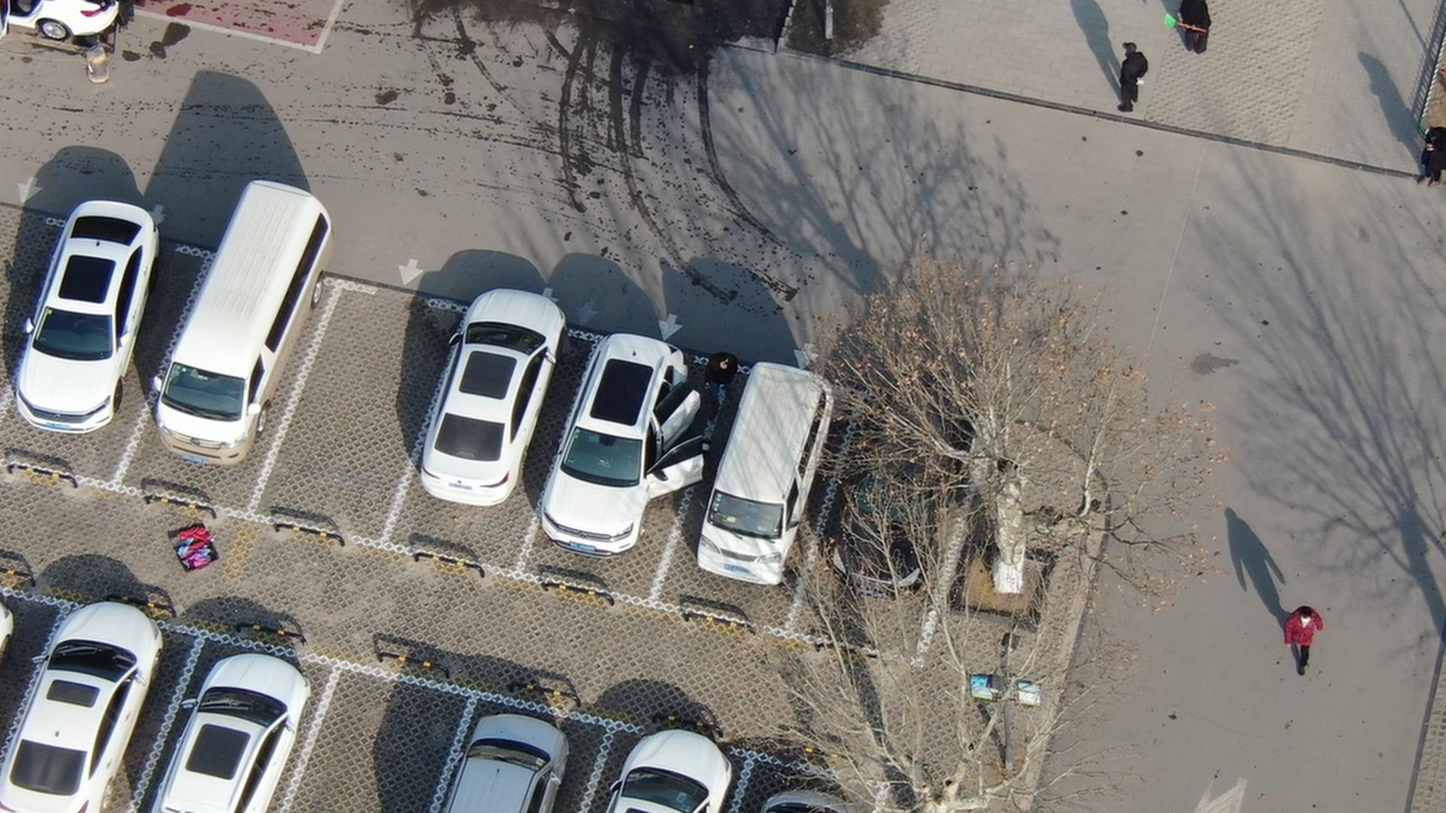human: (1274, 603, 1325, 686), (1109, 35, 1153, 123), (1405, 108, 1446, 197), (700, 342, 740, 413), (1168, 1, 1211, 61)
